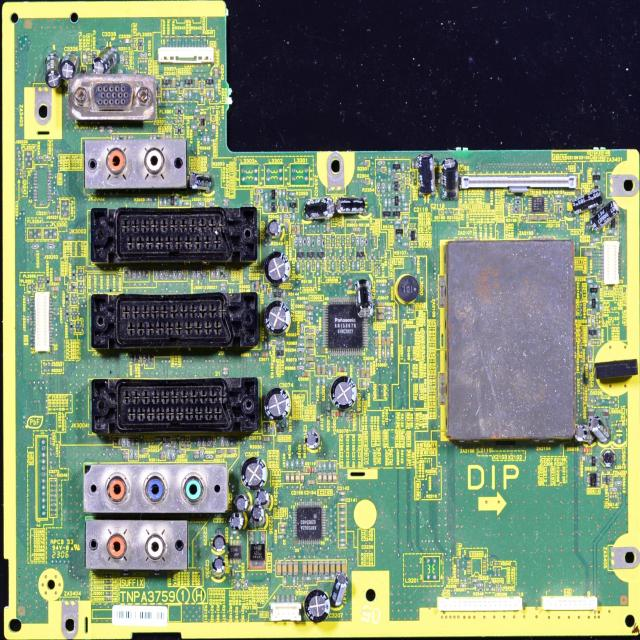Capacitor Jumper: (303, 586, 331, 624), (266, 392, 292, 431), (239, 456, 267, 487), (442, 161, 464, 200), (592, 200, 618, 232), (268, 300, 288, 341), (571, 184, 600, 212), (338, 193, 368, 219), (415, 158, 436, 195), (303, 196, 335, 220), (355, 277, 374, 316), (187, 170, 216, 193), (270, 260, 292, 288), (44, 54, 63, 86), (332, 573, 348, 609), (589, 416, 612, 441), (95, 49, 112, 74), (575, 422, 594, 444), (250, 503, 266, 524), (61, 51, 74, 76), (306, 431, 322, 449), (211, 532, 225, 552), (231, 511, 244, 531), (210, 556, 226, 572), (234, 494, 248, 512), (255, 490, 268, 502), (252, 537, 260, 551), (341, 561, 347, 576), (528, 214, 539, 222), (373, 337, 381, 348), (324, 562, 331, 574), (302, 562, 308, 576), (282, 562, 288, 576), (294, 561, 299, 576), (336, 562, 342, 574), (377, 300, 386, 308), (301, 371, 311, 378), (330, 561, 335, 575), (318, 564, 325, 574), (376, 308, 387, 314), (288, 563, 293, 576), (263, 436, 272, 443), (285, 472, 290, 484), (386, 334, 390, 349), (381, 336, 386, 348), (353, 226, 361, 233), (306, 334, 314, 341), (332, 365, 337, 376), (290, 472, 295, 483), (554, 204, 559, 215), (291, 223, 296, 234), (308, 564, 314, 573), (306, 356, 315, 362), (277, 563, 281, 576), (323, 473, 328, 483), (316, 364, 321, 374), (364, 369, 370, 377), (580, 456, 588, 462), (300, 472, 304, 484), (539, 215, 547, 221), (326, 221, 330, 233), (332, 473, 337, 482), (295, 472, 299, 483), (318, 473, 322, 484), (314, 562, 318, 573), (296, 223, 300, 234), (378, 314, 385, 320), (360, 367, 364, 377), (306, 343, 314, 348), (322, 365, 326, 375), (328, 474, 332, 482)
Connector: (31, 288, 53, 350), (267, 602, 302, 623)
IC: (322, 298, 367, 357), (292, 503, 326, 545), (249, 533, 265, 564), (527, 195, 549, 214), (227, 539, 242, 565), (601, 474, 613, 486)
Resistor Jumper: (290, 460, 295, 472), (244, 579, 250, 589), (381, 182, 386, 194), (295, 458, 300, 468), (376, 182, 381, 192), (121, 436, 125, 448), (127, 437, 131, 449), (164, 442, 172, 448), (608, 487, 616, 493), (166, 450, 171, 459), (377, 160, 386, 165), (171, 449, 175, 460), (286, 459, 290, 470), (134, 448, 138, 458), (129, 449, 133, 459), (181, 438, 185, 447), (300, 458, 304, 467), (616, 480, 622, 486), (142, 354, 146, 363), (138, 354, 142, 363), (370, 180, 374, 187), (237, 581, 240, 589)
Transistor: (586, 325, 601, 342), (587, 471, 600, 489), (588, 283, 600, 297), (306, 246, 316, 262), (589, 296, 599, 311), (392, 194, 402, 208), (382, 207, 392, 221), (275, 422, 285, 435), (408, 230, 418, 243), (395, 224, 404, 238), (316, 248, 325, 262), (589, 455, 599, 467), (270, 185, 278, 200), (268, 200, 278, 212), (392, 208, 402, 220), (296, 249, 306, 261), (289, 200, 298, 213), (276, 346, 285, 359), (393, 161, 403, 172), (358, 248, 365, 261), (391, 181, 405, 186)
